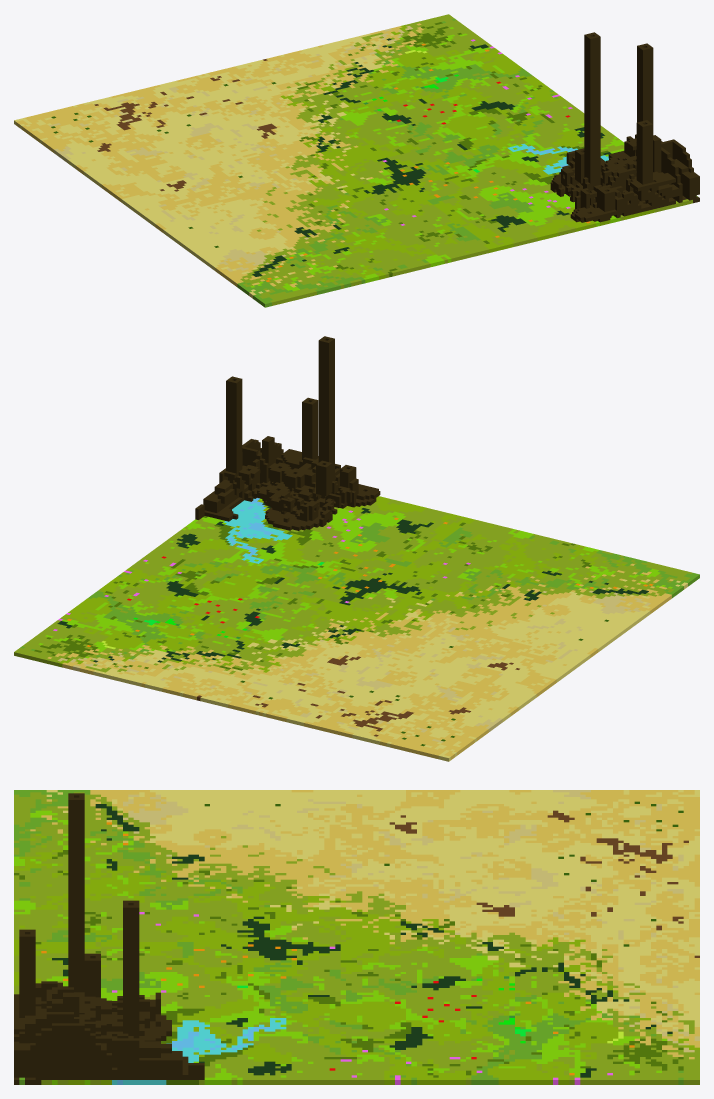
3 renders of one model, top to bottom at view 1: azimuth 30°, elevation 25°; view 2: azimuth 150°, elevation 25°; view 3: azimuth 270°, elevation 25°, orthographic. The views are drawn at different scales.
Parts seen in each view (by area): view 1: da——di——tu-4; view 2: da——di——tu-4; view 3: da——di——tu-4.
Boxes of the visible parts, <box> form: da——di——tu-4: <box>14,14,699,307</box>; da——di——tu-4: <box>14,336,699,761</box>; da——di——tu-4: <box>14,790,699,1084</box>.
Bounding box in the file's own units: 126 × 47 × 126.
1 material, 1 textured.
